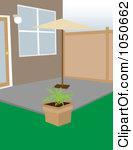pottedplant: (40, 86, 75, 127)
